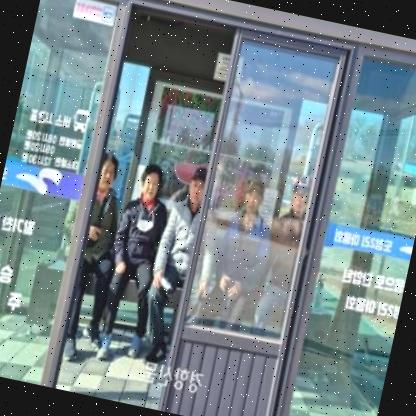door: (35, 0, 375, 416)
person: (86, 156, 182, 374), (54, 148, 134, 358)
